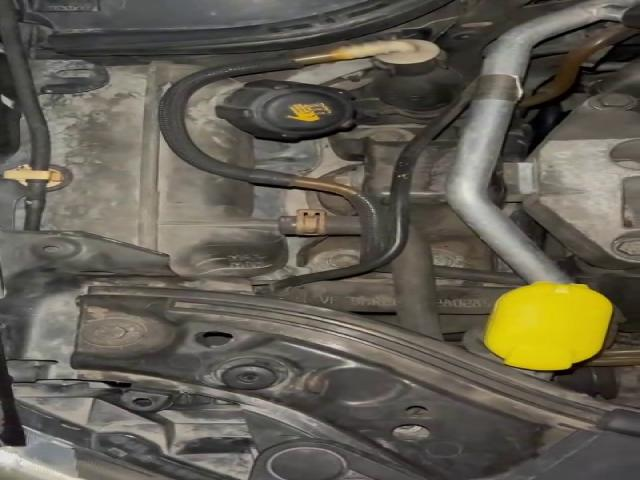antifreeze_tank: (42, 62, 285, 277), (186, 79, 353, 166)
